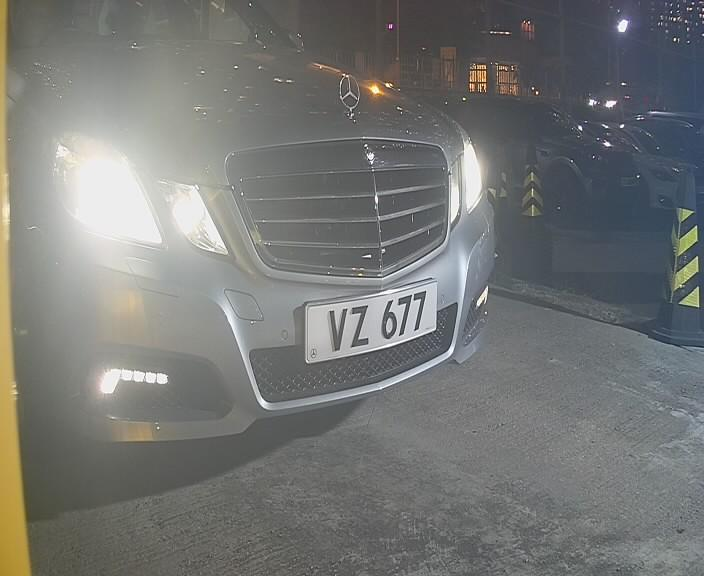License Plate: (290, 276, 450, 368)
